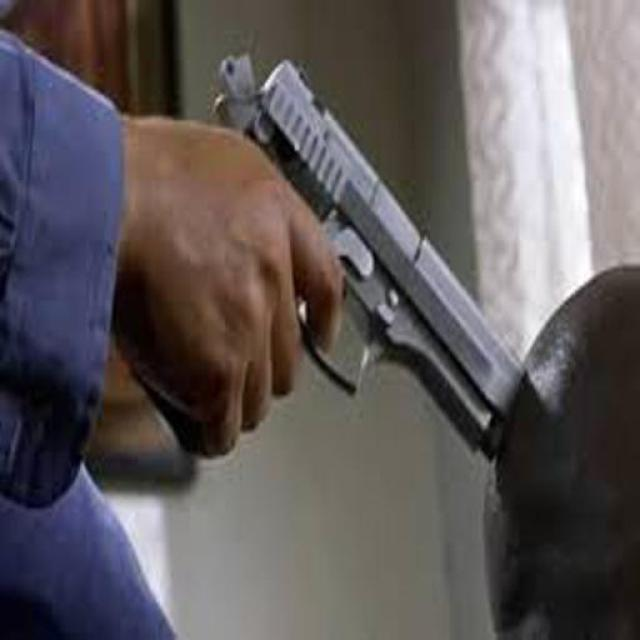pistol: (152, 45, 516, 462)
